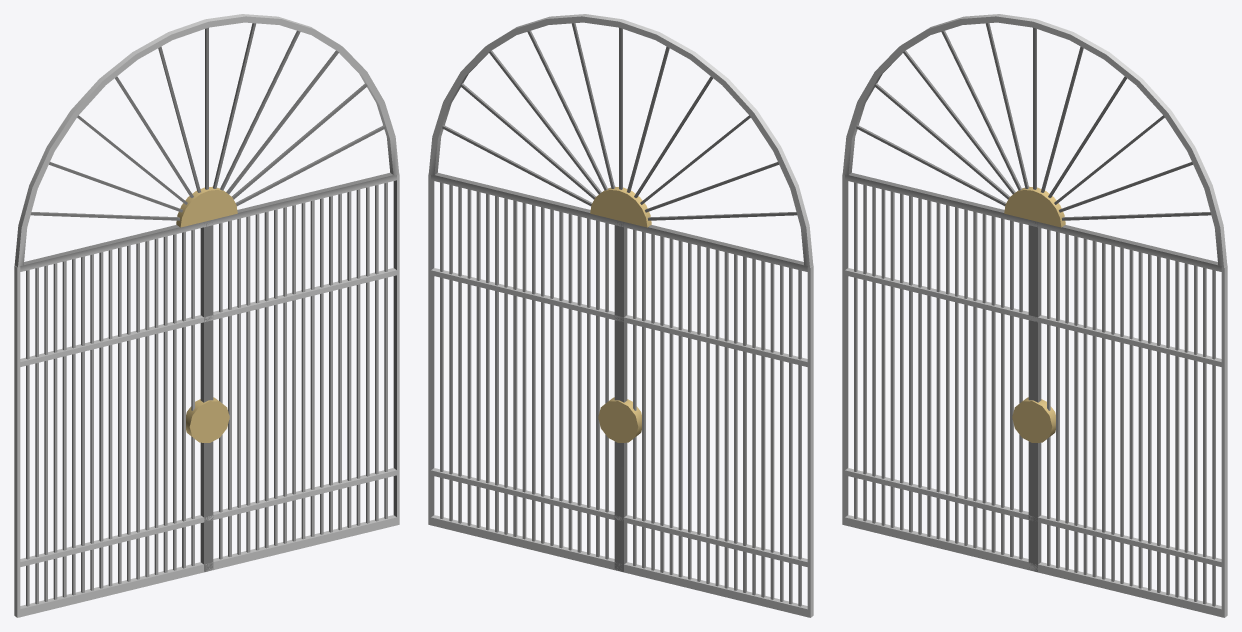
File: gate_grille.glb
3 renders of one model, left to right at view 1: azimuth 30°, elevation 25°; view 2: azimuth 150°, elevation 25°; view 3: azimuth 330°, elevation 25°, orthographic.
Parts seen in each view (by area): view 1: gate_grille_CL_Fabric, gate_grille_CL_Gilt; view 2: gate_grille_CL_Fabric, gate_grille_CL_Gilt; view 3: gate_grille_CL_Fabric, gate_grille_CL_Gilt.
Part boxes in pixels (x1,y1,x2,y2): gate_grille_CL_Fabric: (14,14,399,617); gate_grille_CL_Gilt: (176,186,237,442); gate_grille_CL_Fabric: (428,14,813,617); gate_grille_CL_Gilt: (590,186,651,442); gate_grille_CL_Fabric: (842,14,1227,617); gate_grille_CL_Gilt: (1004,186,1065,442).
Bounding box in the file's own units: 8 × 10.99 × 0.2.
